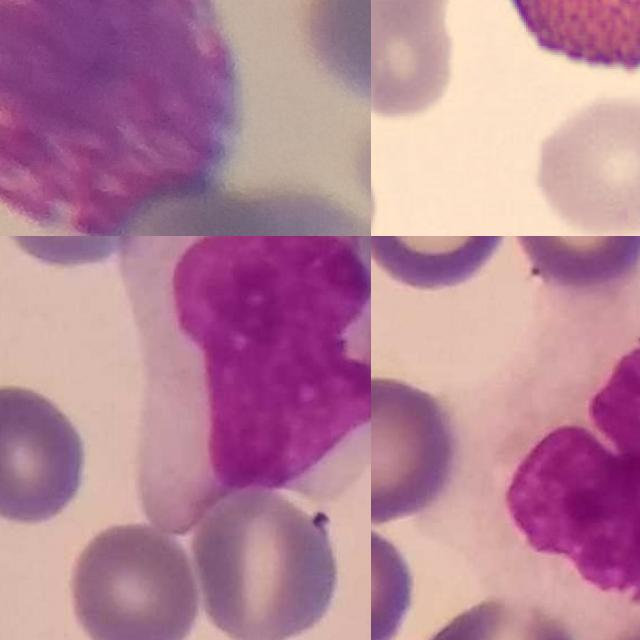Basophil: (0, 0, 234, 236)
Eosinophil: (472, 0, 640, 97)
Monocyte: (123, 236, 371, 536), (486, 311, 640, 622)
RBC: (528, 88, 640, 236), (371, 0, 462, 125)
